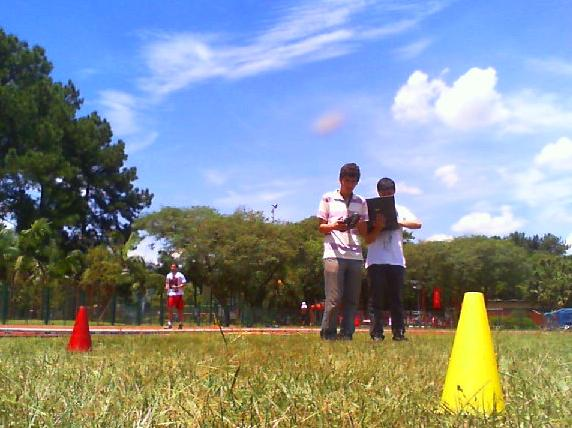0 cone: (433, 292, 507, 417), (65, 306, 93, 352)
